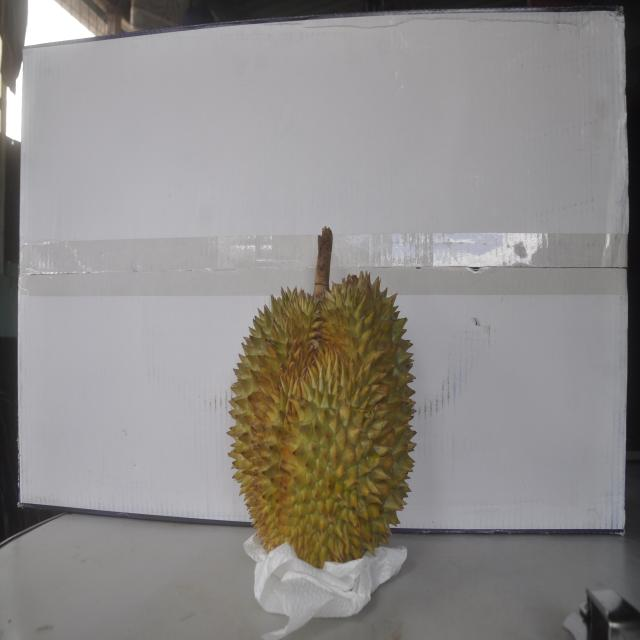mature: (226, 241, 416, 568)
